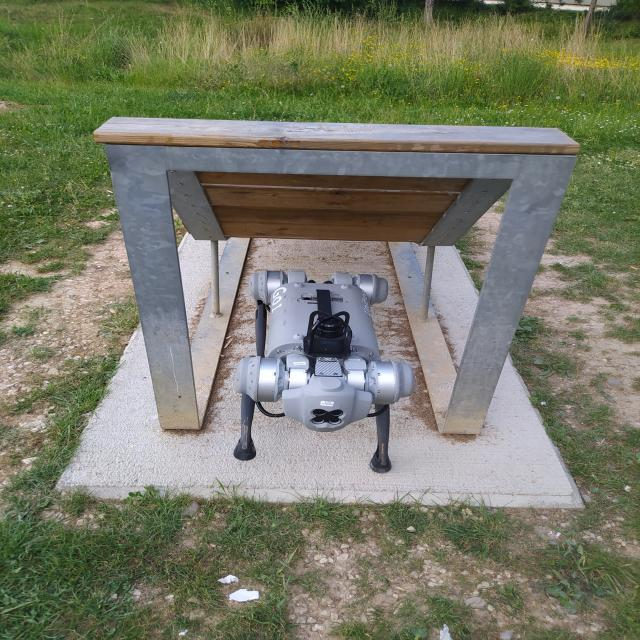unitree-go1-robot: (208, 249, 421, 492)
